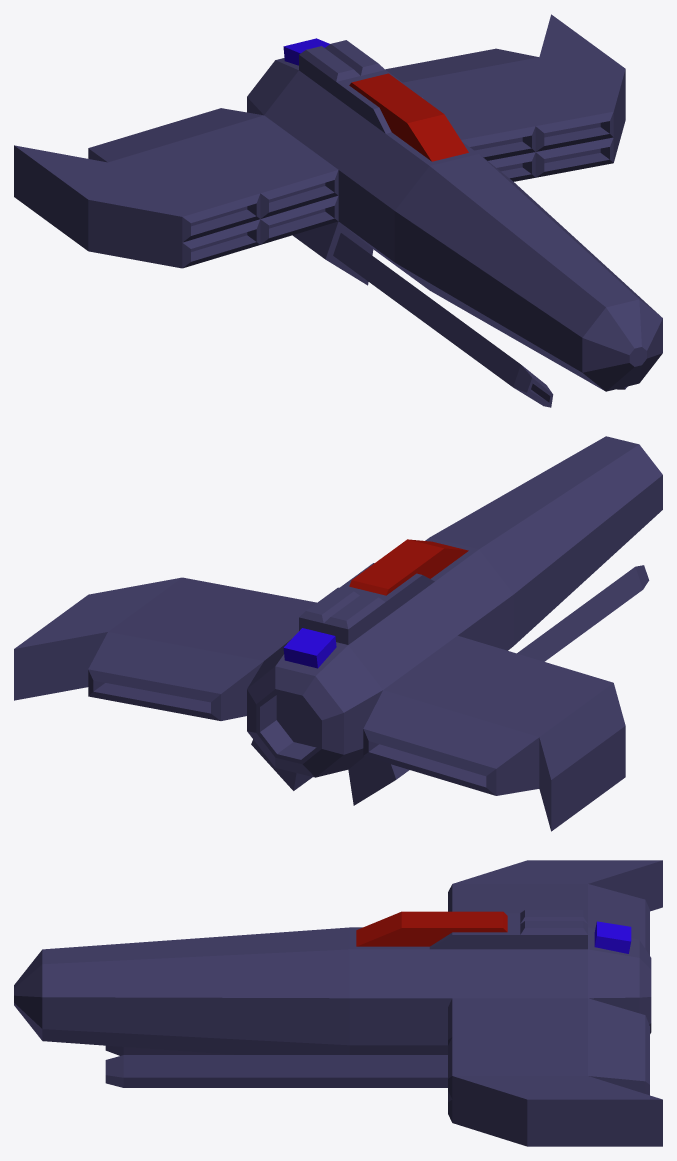
The model's file is ShipB.fbx.
3 renders of one model, top to bottom at view 1: azimuth 30°, elevation 25°; view 2: azimuth 150°, elevation 25°; view 3: azimuth 270°, elevation 25°, orthographic. The views are drawn at different scales.
Visible parts, largest first — view 1: Fuselage, Cockpit; view 2: Fuselage, Cockpit, Battery; view 3: Fuselage, Cockpit, Battery.
Part boxes in pixels (<box>): Fuselage: <box>14,14,662,407</box>; Cockpit: <box>349,73,468,161</box>; Fuselage: <box>14,436,662,831</box>; Cockpit: <box>349,539,468,595</box>; Battery: <box>283,628,336,668</box>; Fuselage: <box>14,860,662,1146</box>; Cockpit: <box>356,911,507,946</box>; Battery: <box>594,921,631,953</box>.
Size of the model in its own units: 834 by 268 by 956.
